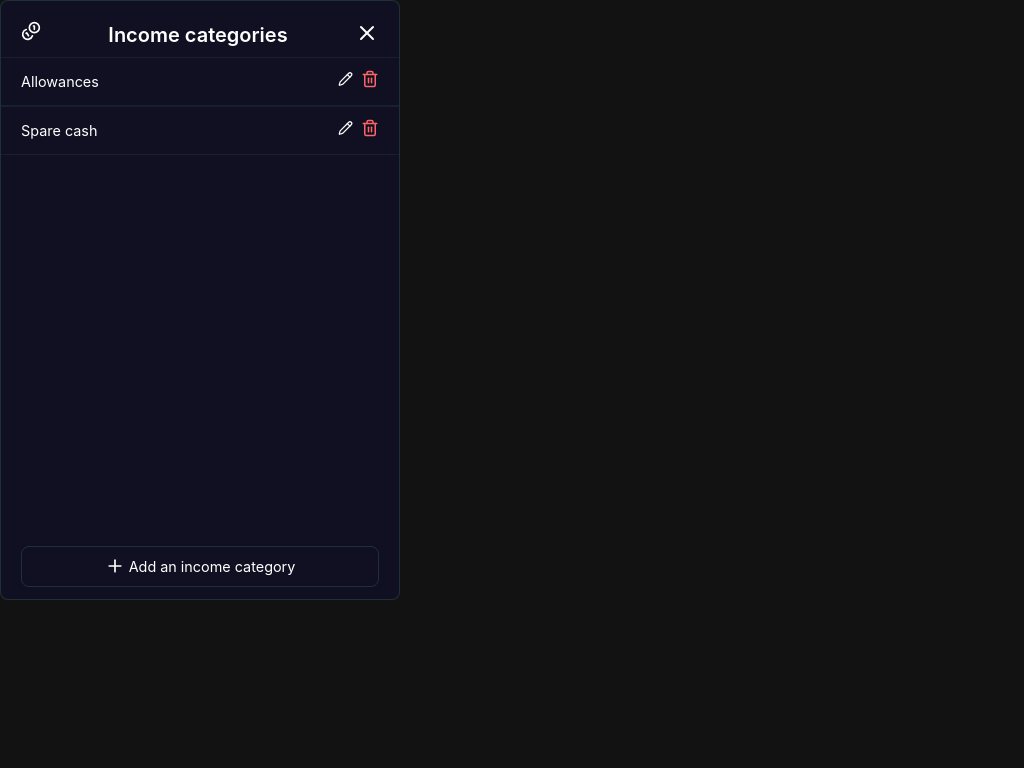
Test case: Test if elements in income categories modal works › Test if income category deletion works
The width and height of the screenshot is (1024, 768).
Expected: the text "Allowances" is shown, [21,70,99,93]
Click the icon named "Delete Allowances" at [370, 79], box [361,70,379,88]
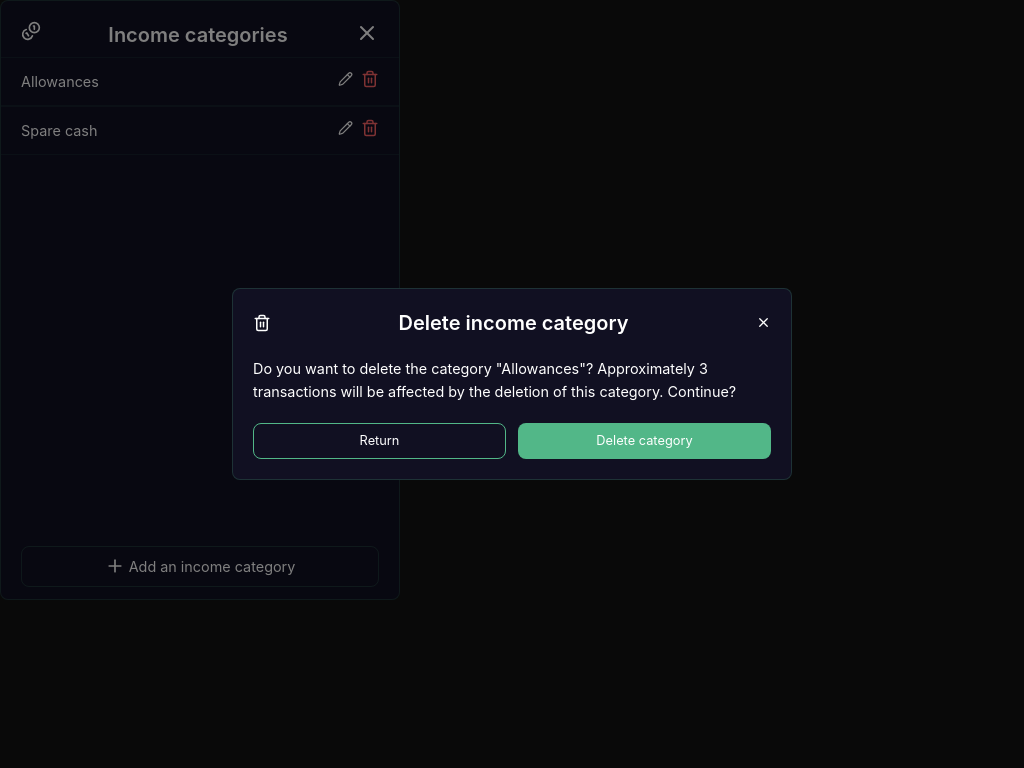
Expected: the text "3 transactions will be affected" is shown, [253,360,736,400]
Click the button "Delete category" at [644, 441], box [518,423,771,459]
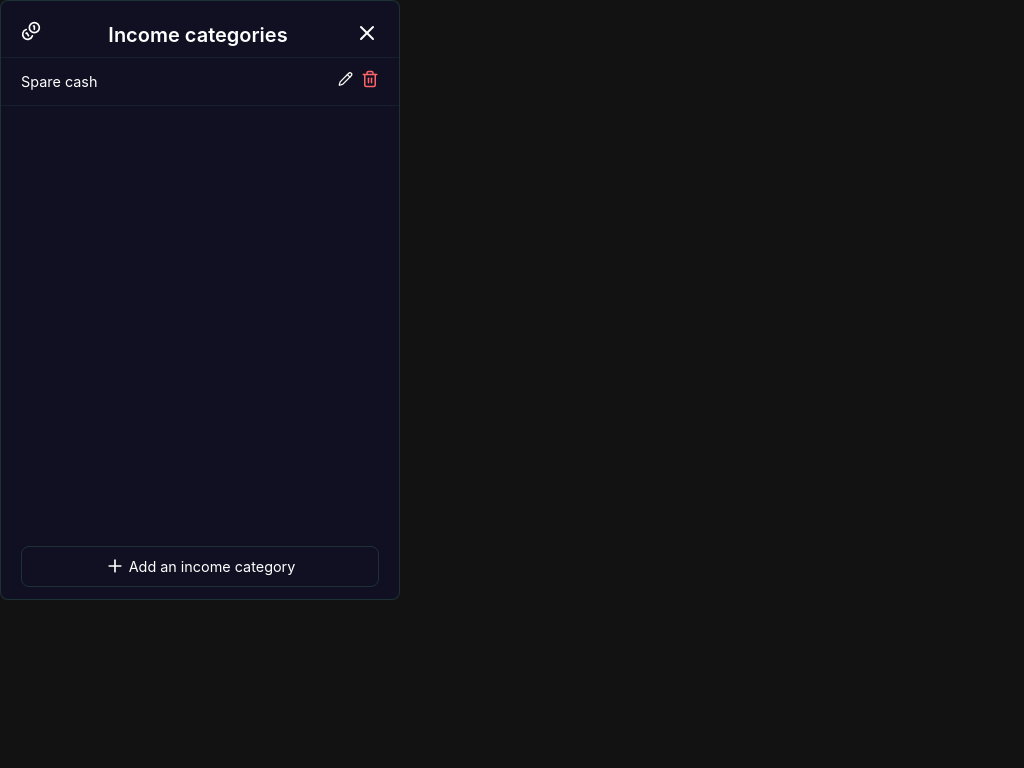
Expected: the text "Spare cash" is shown, [21,70,97,93]
